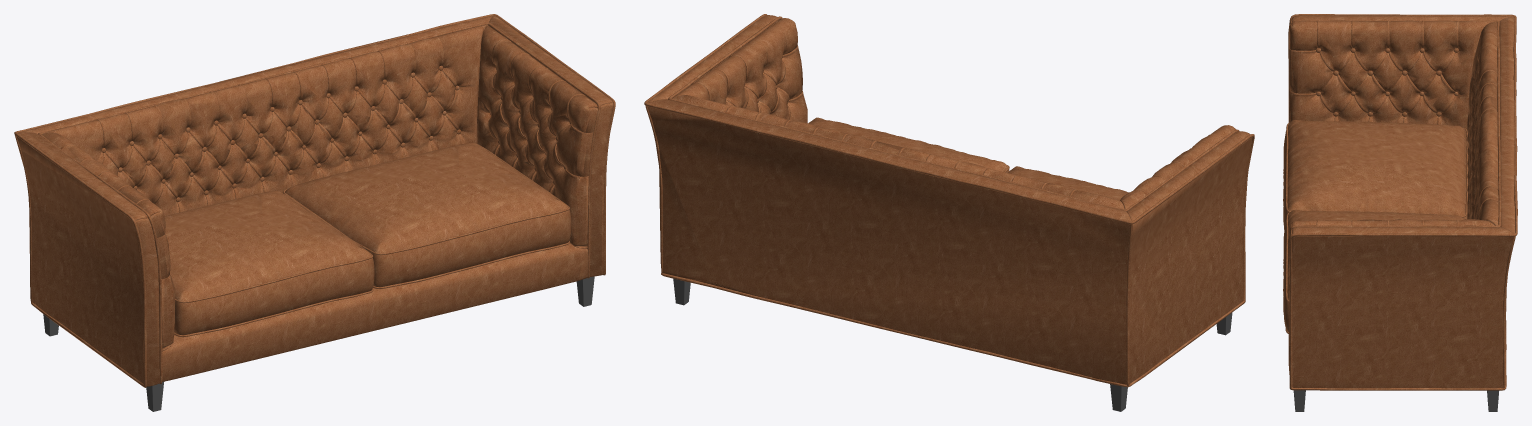
Rendered from classic-sofa.glb.
3 renders of one model, left to right at view 1: azimuth 30°, elevation 25°; view 2: azimuth 150°, elevation 25°; view 3: azimuth 270°, elevation 25°, orthographic. The views are drawn at different scales.
Visible parts, largest first — view 1: base, Seat.001, Seat, hand_support, hand_support.001, legs; view 2: base, hand_support, Seat.001, hand_support.001, Seat, legs; view 3: base, hand_support.001, Seat, Seat.001, hand_support, legs.
Boxes of the visible parts, left/top/right/bottom form: base: left=14, top=14, right=615, bottom=387; Seat.001: left=283, top=142, right=571, bottom=289; Seat: left=165, top=190, right=374, bottom=337; hand_support: left=477, top=26, right=597, bottom=248; hand_support.001: left=42, top=132, right=175, bottom=351; legs: left=43, top=276, right=594, bottom=411; base: left=644, top=14, right=1254, bottom=387; hand_support: left=674, top=18, right=807, bottom=123; Seat.001: left=808, top=117, right=1009, bottom=172; hand_support.001: left=1120, top=125, right=1235, bottom=209; Seat: left=1007, top=166, right=1128, bottom=200; legs: left=673, top=278, right=1232, bottom=411; base: left=1288, top=14, right=1517, bottom=390; hand_support.001: left=1289, top=20, right=1496, bottom=129; Seat: left=1283, top=120, right=1468, bottom=229; Seat.001: left=1283, top=209, right=1466, bottom=333; hand_support: left=1289, top=219, right=1494, bottom=345; legs: left=1293, top=390, right=1498, bottom=411.
Bounding box in the file's own units: 2.19 × 0.8828 × 0.9822.
2 materials, 1 textured.
